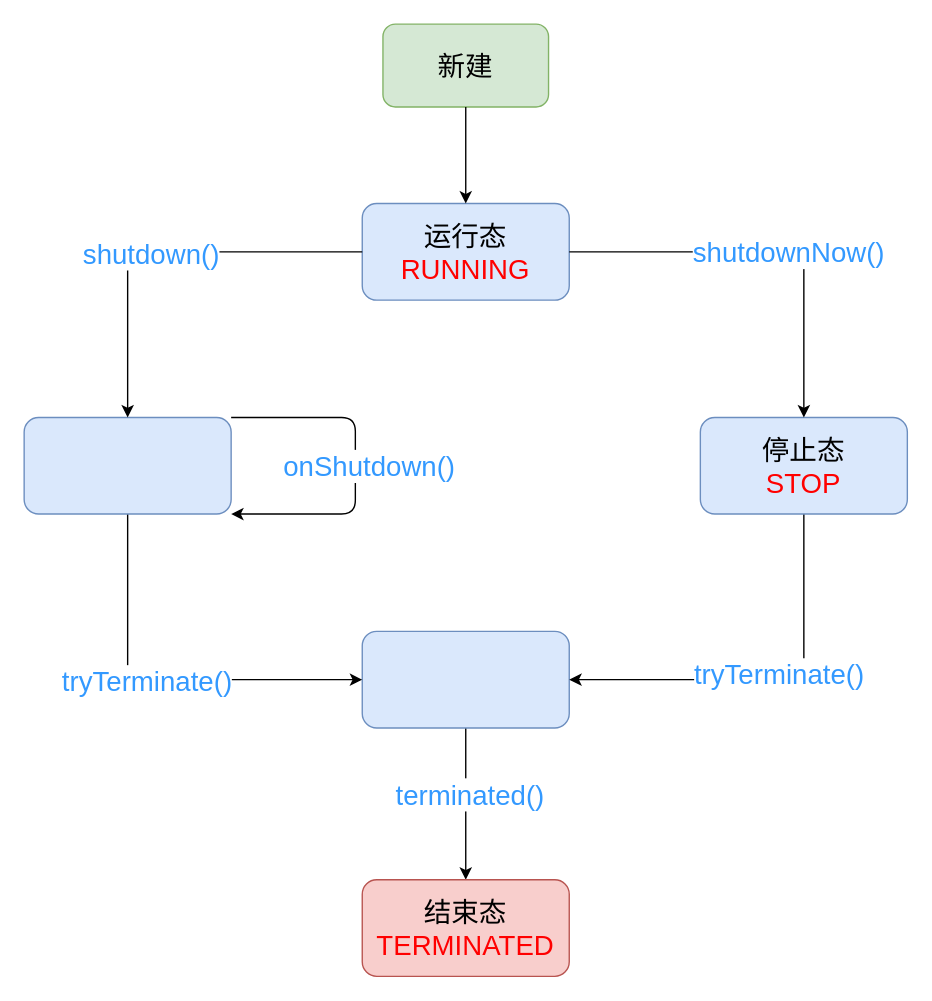
The diagram is 932 pixels wide and 1001 high, and some of its shapes have lost their labels. Here are the shapes that lost their labels. From the top down, the centre of each, then its label:
At (x=127, y=465): "关闭态 SHUTDOWN".
At (x=465, y=679): "整理态 TIDYING".
